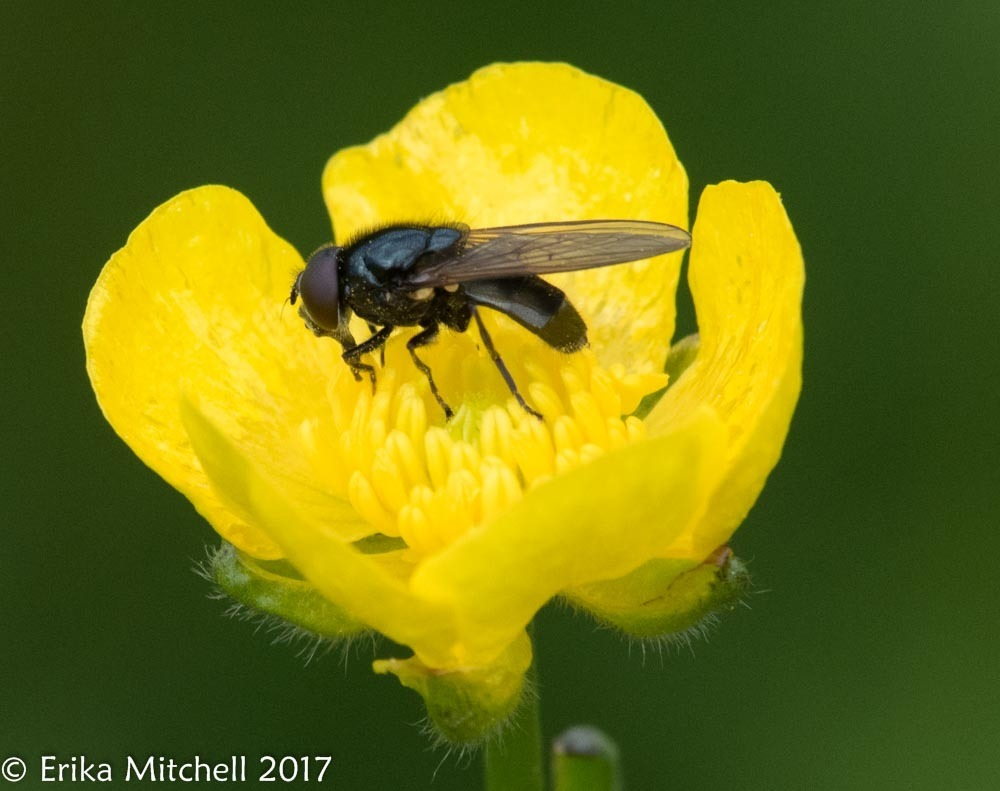not_bumblebee: (286, 219, 694, 422)
